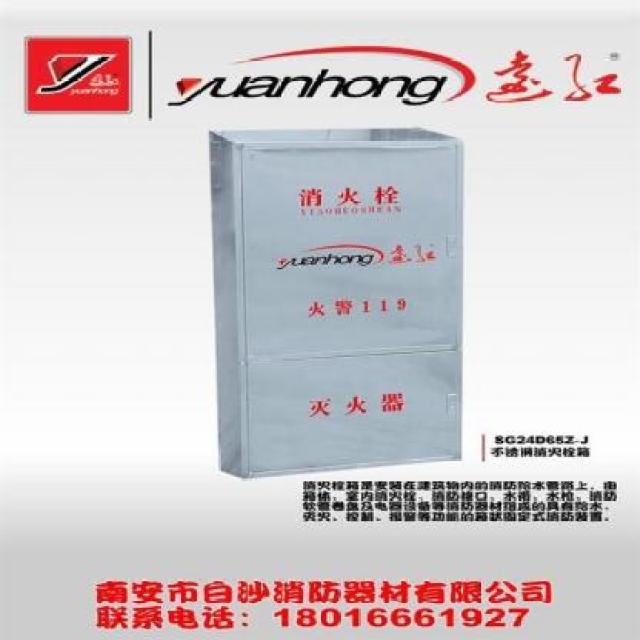firehydrant: (200, 123, 472, 485)
